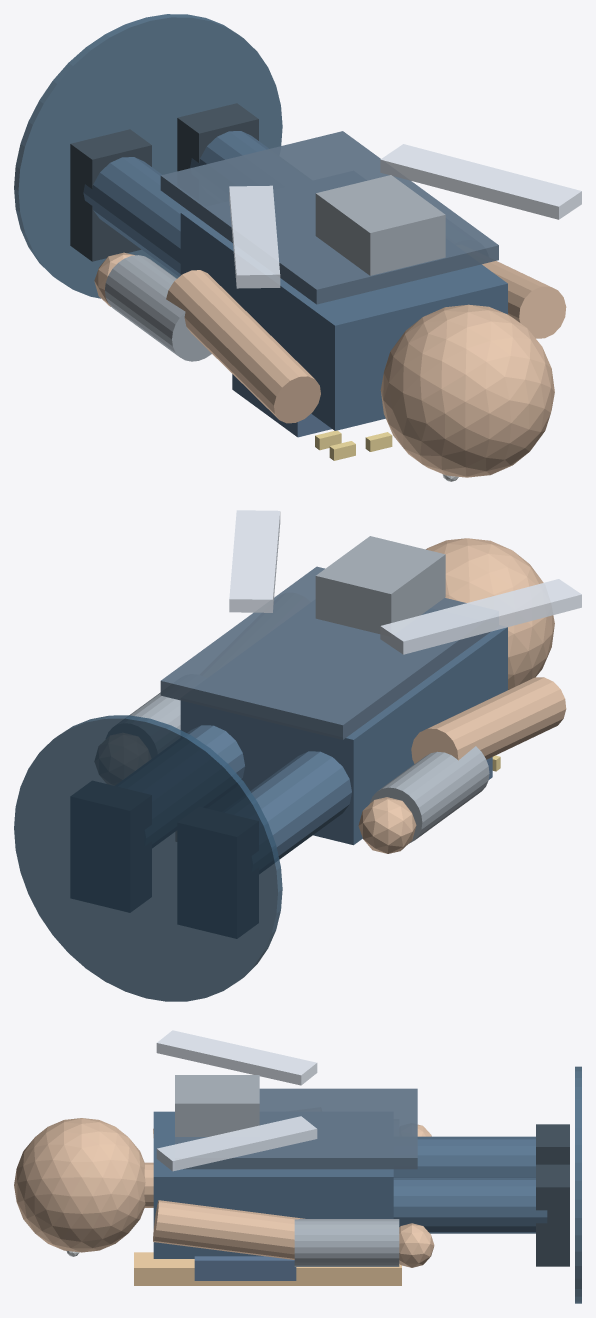
Rendered from SW_NPC_033_hara_ashwing.glb.
3 renders of one model, top to bottom at view 1: azimuth 30°, elevation 25°; view 2: azimuth 150°, elevation 25°; view 3: azimuth 270°, elevation 25°, orthographic. The views are drawn at different scales.
Parts seen in each view (by area): view 1: round_base_plate, head, torso_uniform, storm_cloak, left_upper_arm, wingpack_core, left_leg, right_wing_rig, left_forearm_gauntlet, left_boot, left_wing_rig, right_upper_arm (+4 smaller); view 2: round_base_plate, storm_cloak, torso_uniform, wingpack_core, head, left_upper_arm, left_wing_rig, left_leg, left_forearm_gauntlet, right_wing_rig, left_hand, right_leg (+1 smaller); view 3: head, torso_uniform, storm_cloak, right_leg, right_upper_arm, left_leg, right_forearm_gauntlet, wingpack_core, rank_sash, right_wing_rig, left_wing_rig, right_boot (+5 smaller).
Part boxes in pixels (x1,y1,x2,y2): round_base_plate: [14, 14, 282, 298]; head: [380, 304, 554, 477]; torso_uniform: [180, 211, 507, 430]; storm_cloak: [160, 131, 498, 304]; left_upper_arm: [166, 270, 320, 423]; wingpack_core: [315, 175, 445, 275]; left_leg: [83, 157, 188, 276]; right_wing_rig: [380, 144, 581, 219]; left_forearm_gauntlet: [105, 255, 211, 361]; left_boot: [70, 129, 151, 261]; left_wing_rig: [229, 185, 280, 288]; right_upper_arm: [482, 261, 566, 338]; round_base_plate: [14, 715, 282, 1001]; storm_cloak: [160, 566, 490, 739]; torso_uniform: [180, 627, 507, 845]; wingpack_core: [315, 536, 445, 633]; head: [426, 538, 554, 689]; left_upper_arm: [411, 677, 566, 763]; left_wing_rig: [380, 579, 581, 654]; left_leg: [250, 751, 351, 859]; left_forearm_gauntlet: [369, 746, 489, 843]; right_wing_rig: [229, 510, 280, 612]; left_hand: [358, 797, 416, 853]; right_leg: [187, 725, 244, 779]; head: [14, 1118, 145, 1252]; torso_uniform: [153, 1111, 393, 1258]; storm_cloak: [175, 1088, 417, 1169]; right_leg: [393, 1177, 547, 1233]; right_upper_arm: [153, 1200, 304, 1259]; left_leg: [393, 1136, 535, 1177]; right_forearm_gauntlet: [294, 1219, 399, 1266]; wingpack_core: [175, 1075, 259, 1136]; rank_sash: [134, 1252, 401, 1285]; right_wing_rig: [156, 1116, 317, 1171]; left_wing_rig: [156, 1030, 317, 1085]; right_boot: [536, 1164, 569, 1266].
Size of the model in its own units: 1.1 by 0.84 by 2.01.
